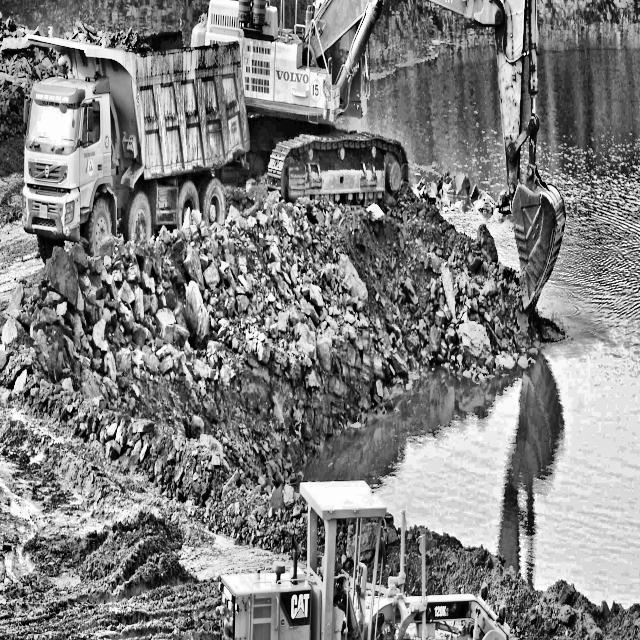buldozerpayloadergrader: (187, 472, 550, 640)
dump_truck: (5, 20, 250, 259)
excavator: (203, 0, 592, 299)
